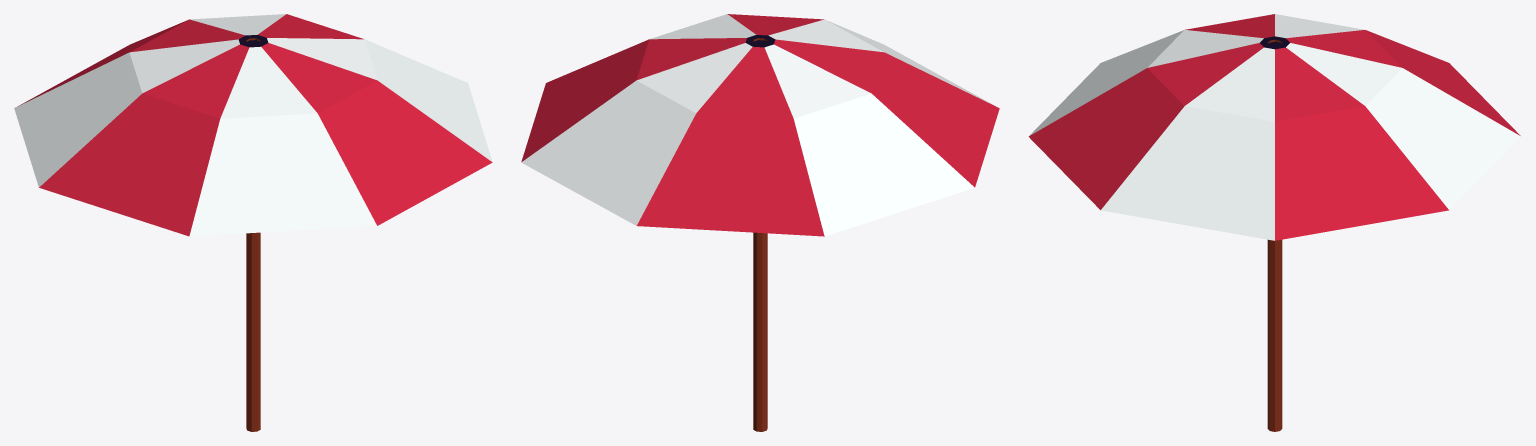
Rendered from Umbrella.fbx.
3 renders of one model, left to right at view 1: azimuth 30°, elevation 25°; view 2: azimuth 150°, elevation 25°; view 3: azimuth 270°, elevation 25°, orthographic.
Parts seen in each view (by area): view 1: Cylinder; view 2: Cylinder; view 3: Cylinder.
Part boxes in pixels (bbox=[...]): Cylinder: bbox=[14, 14, 492, 431]; Cylinder: bbox=[521, 14, 999, 431]; Cylinder: bbox=[1028, 14, 1521, 431].
Bounding box in the file's own units: 467 × 404 × 467.
